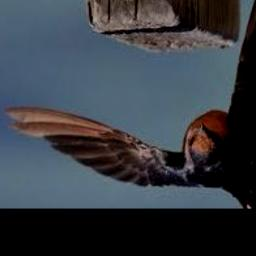Swallow: (5, 0, 256, 209)
